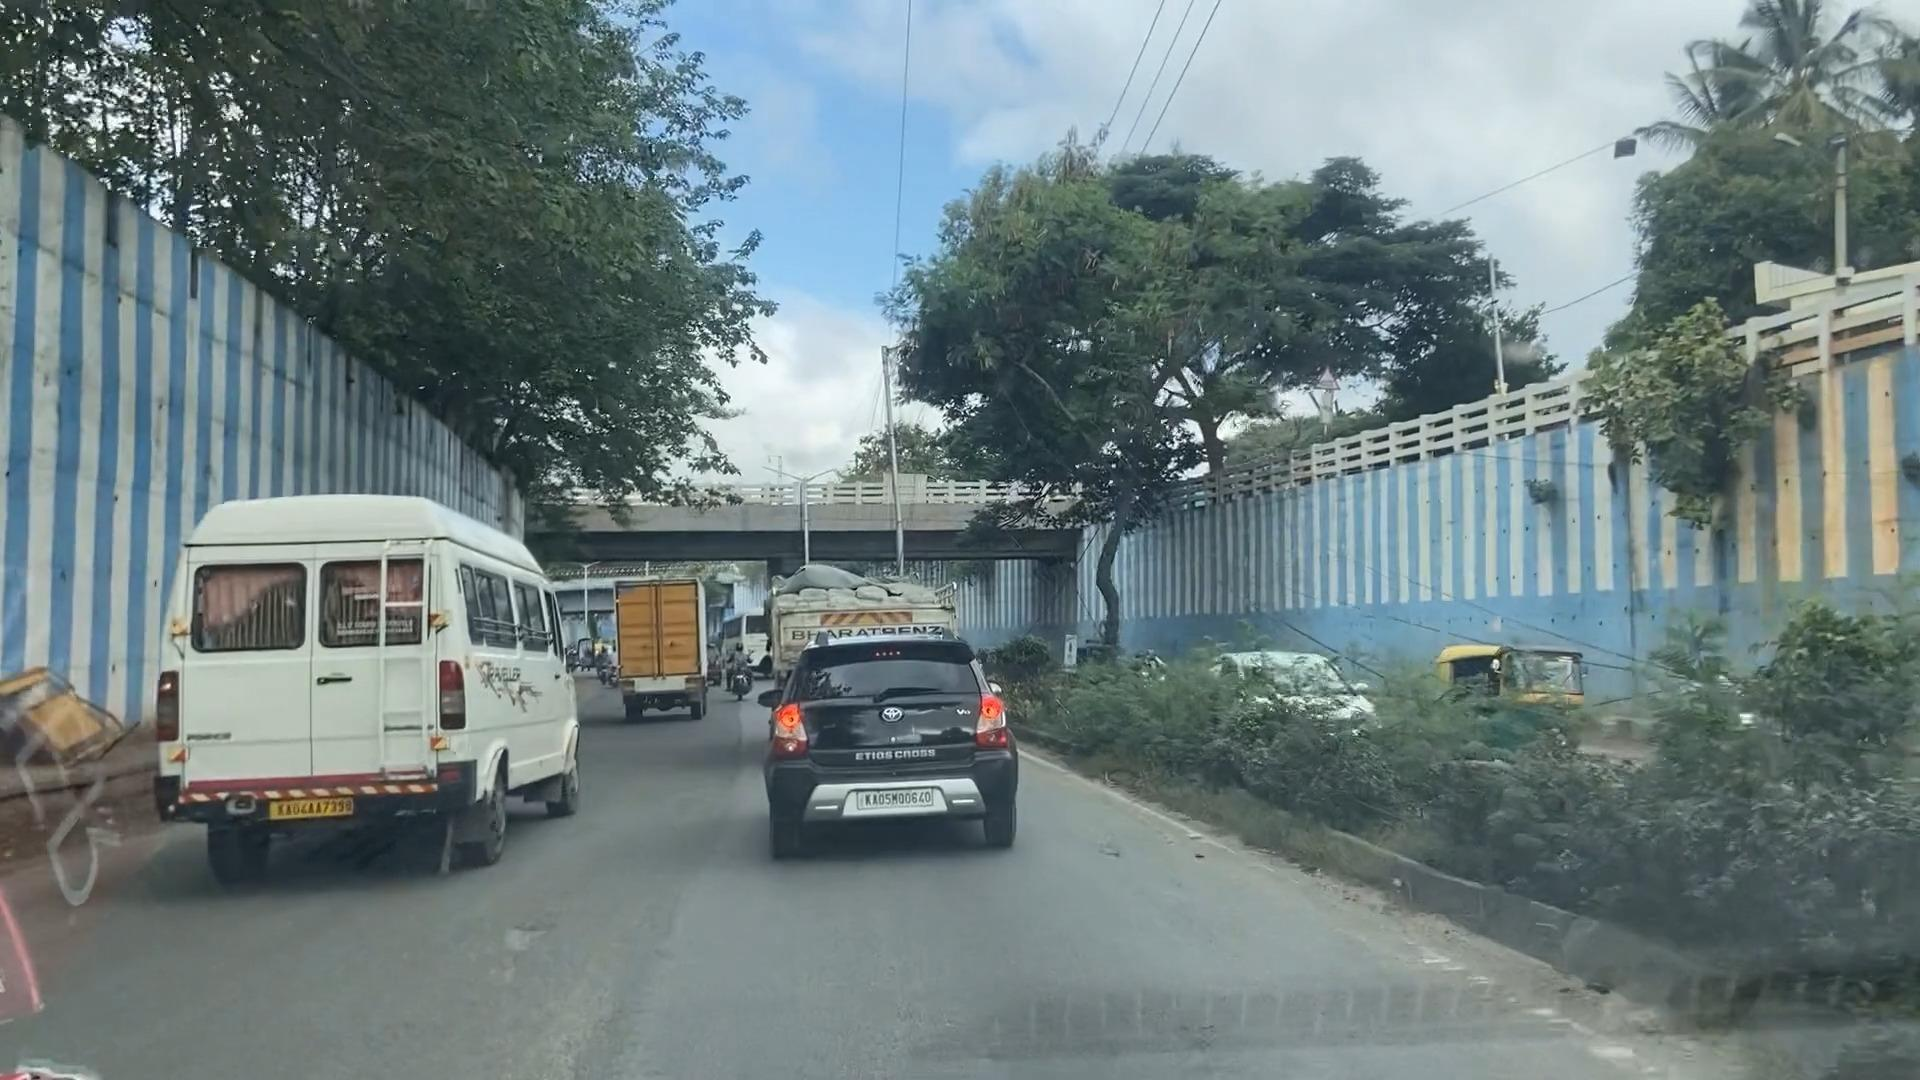HMV: (154, 491, 567, 897), (617, 582, 708, 717)
LMV: (771, 641, 1023, 862)
RoadDamages: (485, 909, 578, 1007)
